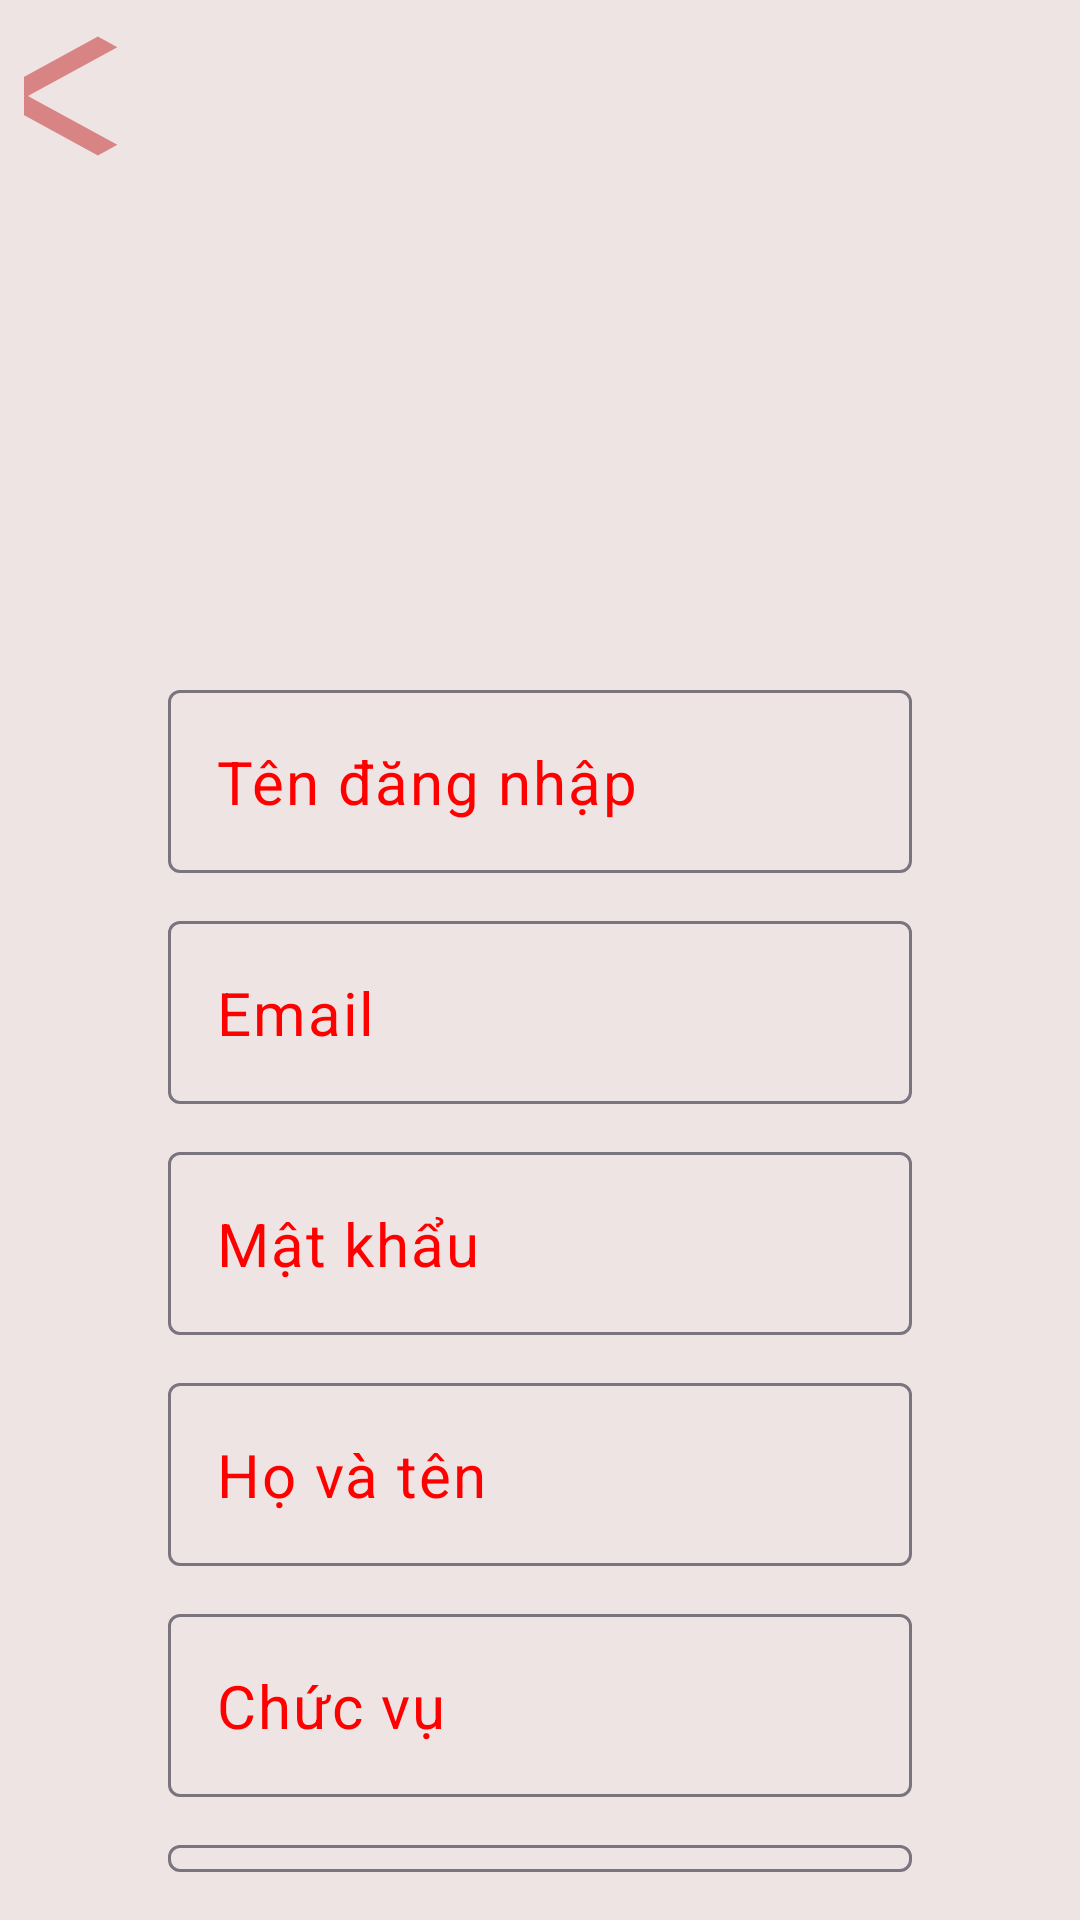

Locate icon controls on the screen. Image size 1080 x 1920, boxes as box=[x1, y1, x2, y2].
back: box=[24, 36, 117, 156]
